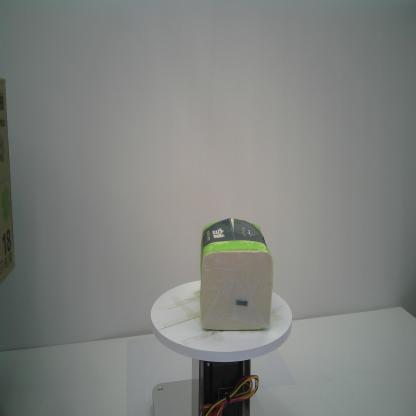Tissue: (200, 216, 274, 331)
